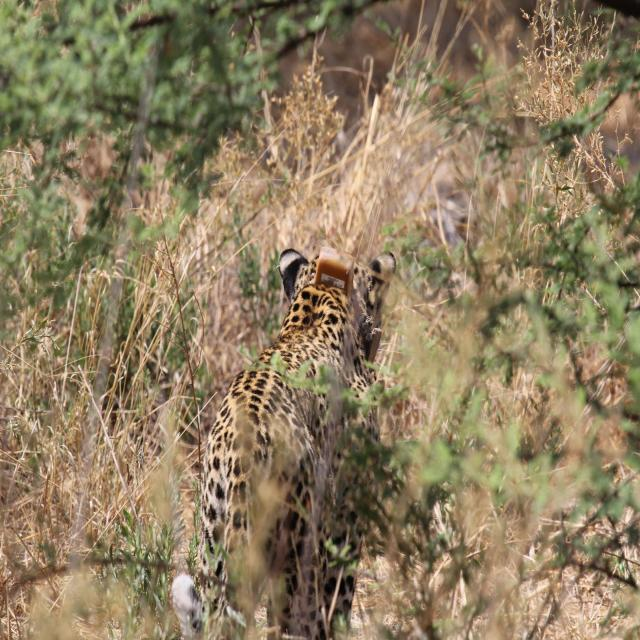Leopard: (166, 179, 435, 640)
